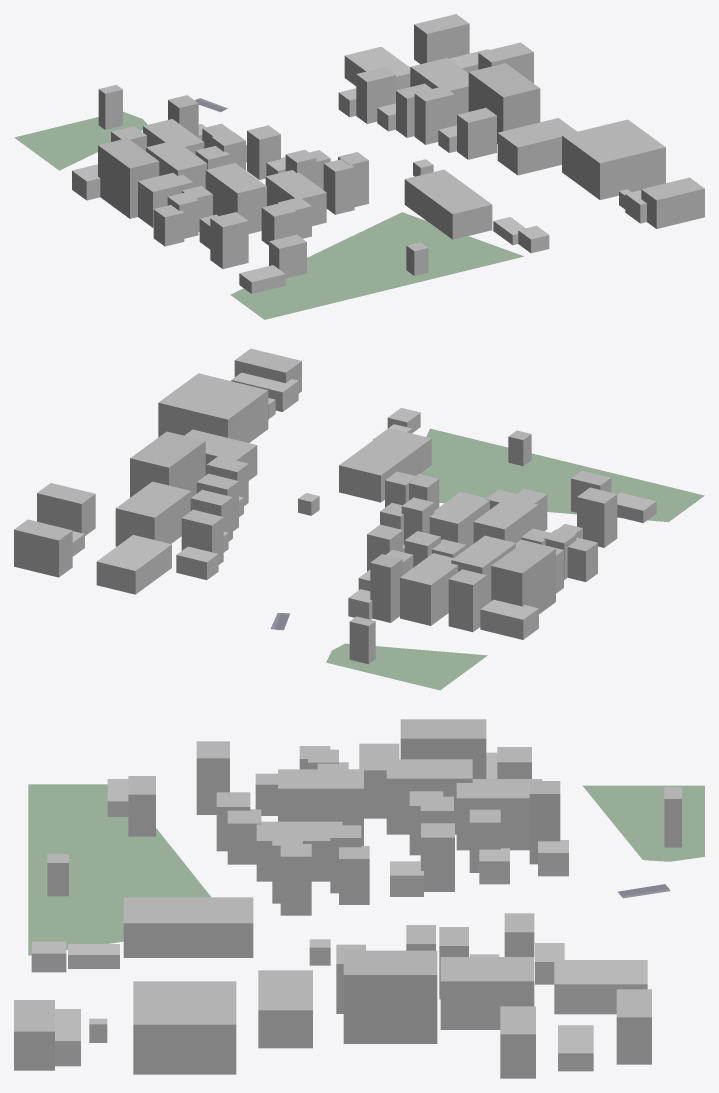
Rendered from 114_83_mid.glb.
The picture shows the model from 3 angles, top to bottom: view 1: azimuth 30°, elevation 25°; view 2: azimuth 150°, elevation 25°; view 3: azimuth 270°, elevation 25°; orthographic projection. The views are drawn at different scales.
Bounding box in the file's own units: 524 × 58.16 × 511.
